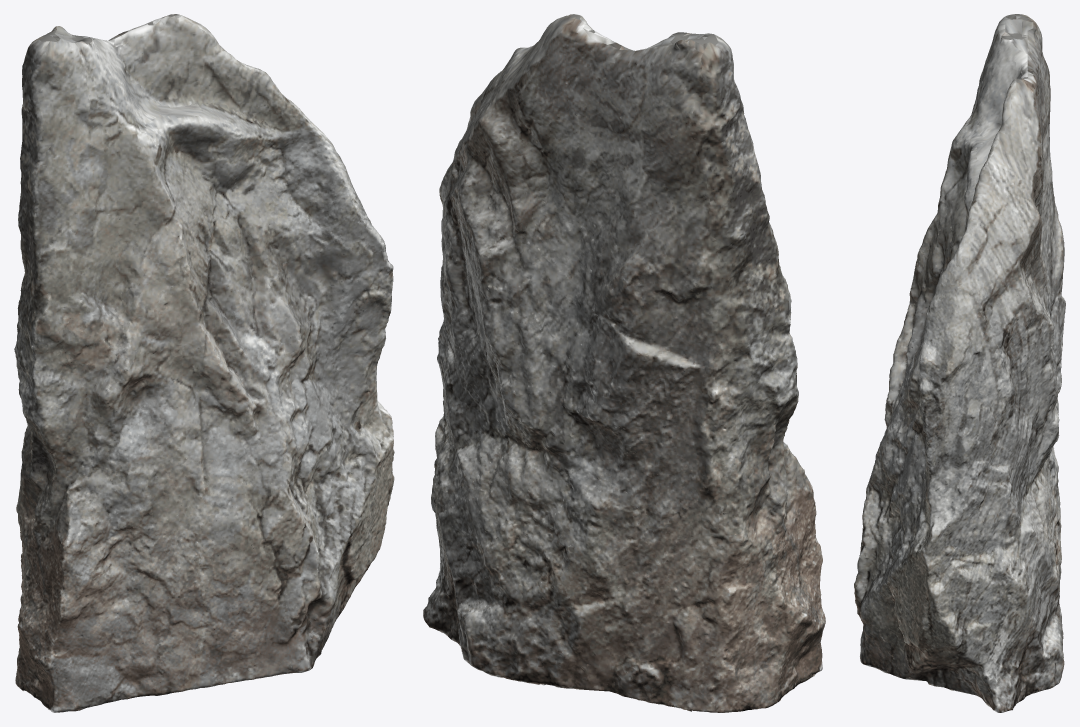
File: sparse1.glb
3 renders of one model, left to right at view 1: azimuth 30°, elevation 25°; view 2: azimuth 150°, elevation 25°; view 3: azimuth 270°, elevation 25°, orthographic. The views are drawn at different scales.
Parts seen in each view (by area): view 1: Node; view 2: Node; view 3: Node.
Part boxes in pixels (box(x1,y1,x2,y2)): Node: box(14, 14, 394, 712); Node: box(423, 14, 825, 712); Node: box(854, 14, 1065, 712).
Bounding box in the file's own units: 3.16 × 5.28 × 1.74.
1 material, 1 textured.
